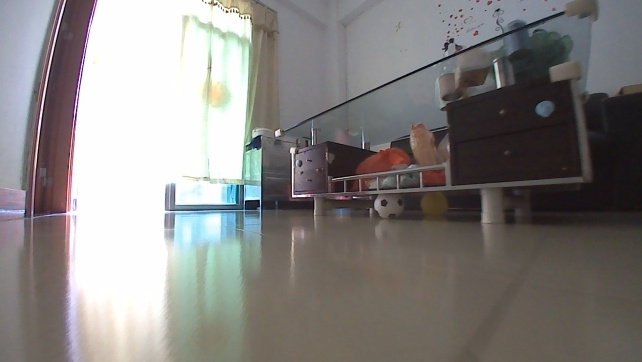sofa1: (521, 88, 641, 215)
tea_table: (269, 0, 600, 227)
